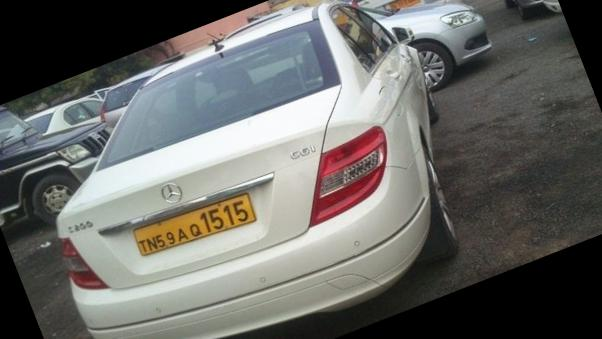plate: (109, 168, 287, 286)
